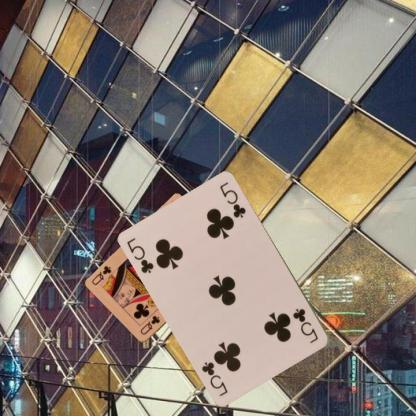5c: (125, 235, 156, 275), (290, 306, 320, 345)
Qc: (138, 313, 161, 336)
